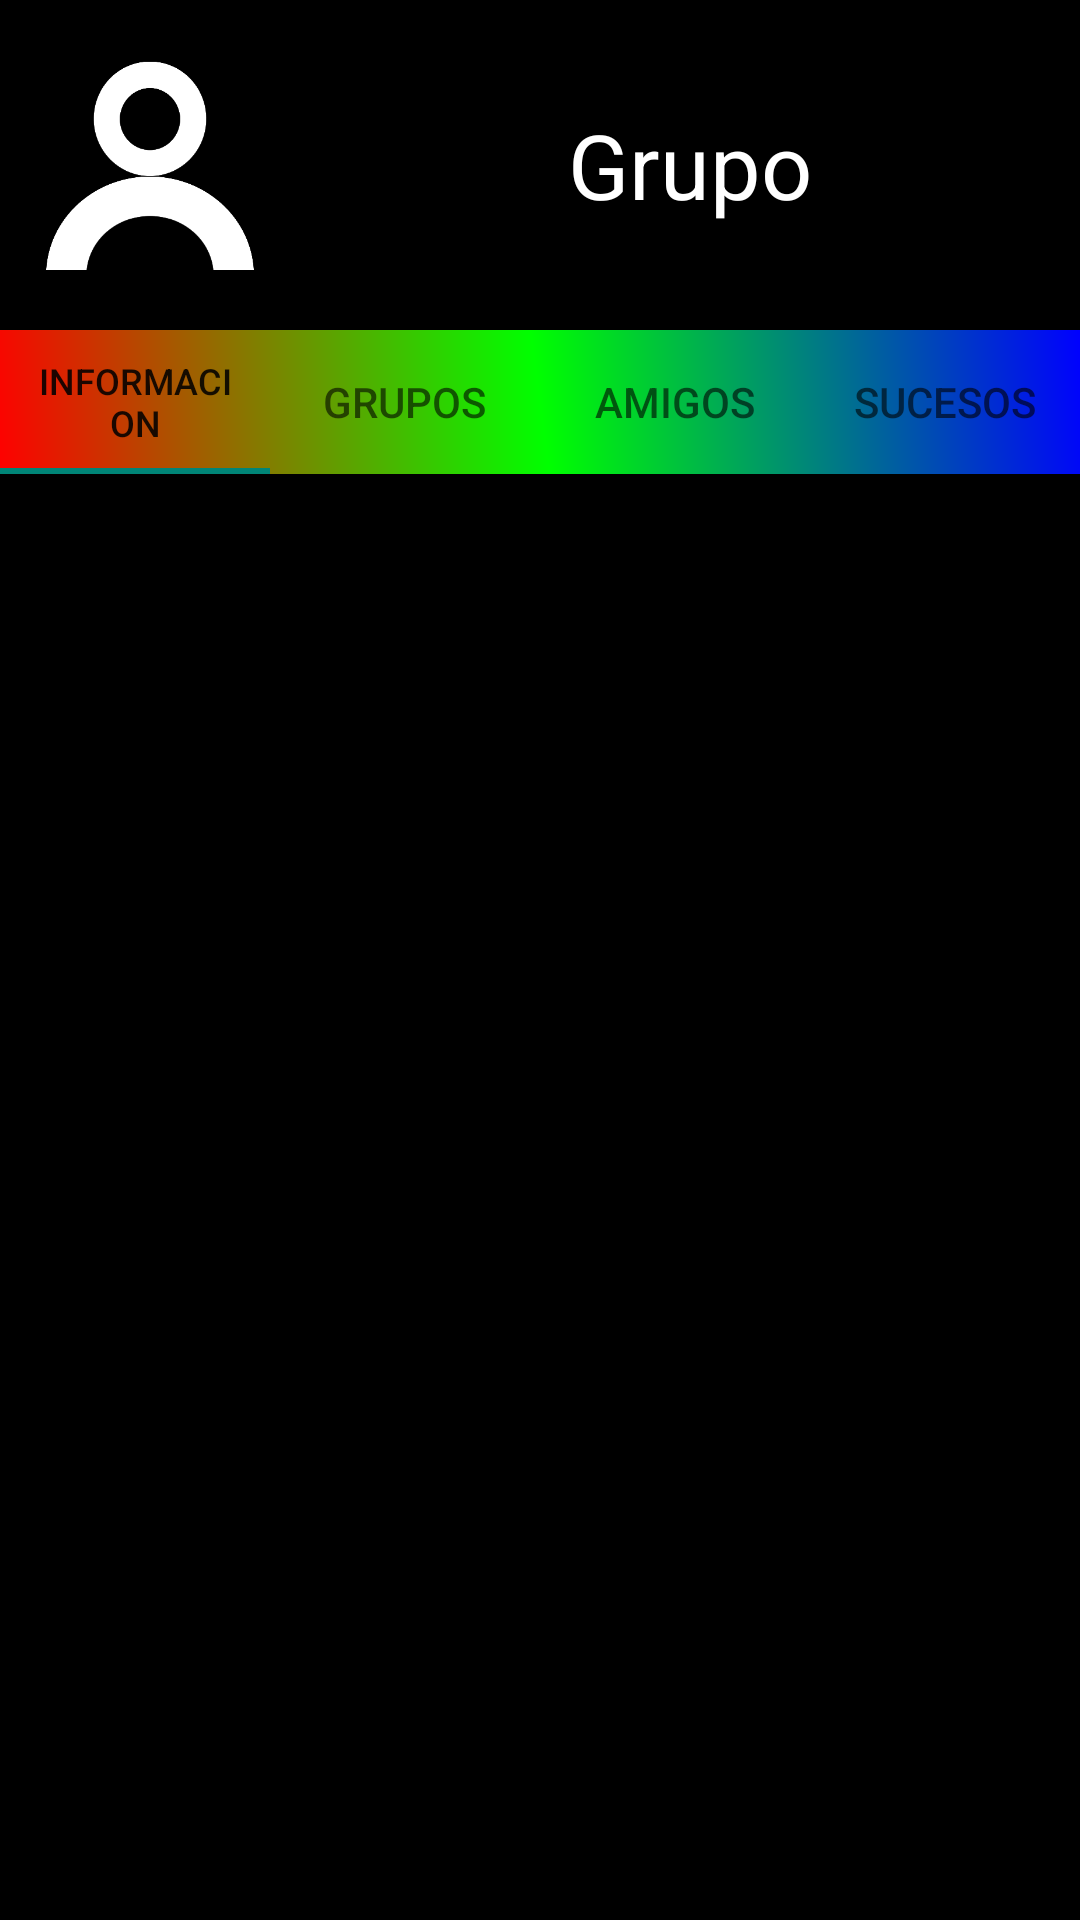

Screen size 1080 × 1920. Icon name, then its center in pixels as [x,y]:
user: [150,166]
